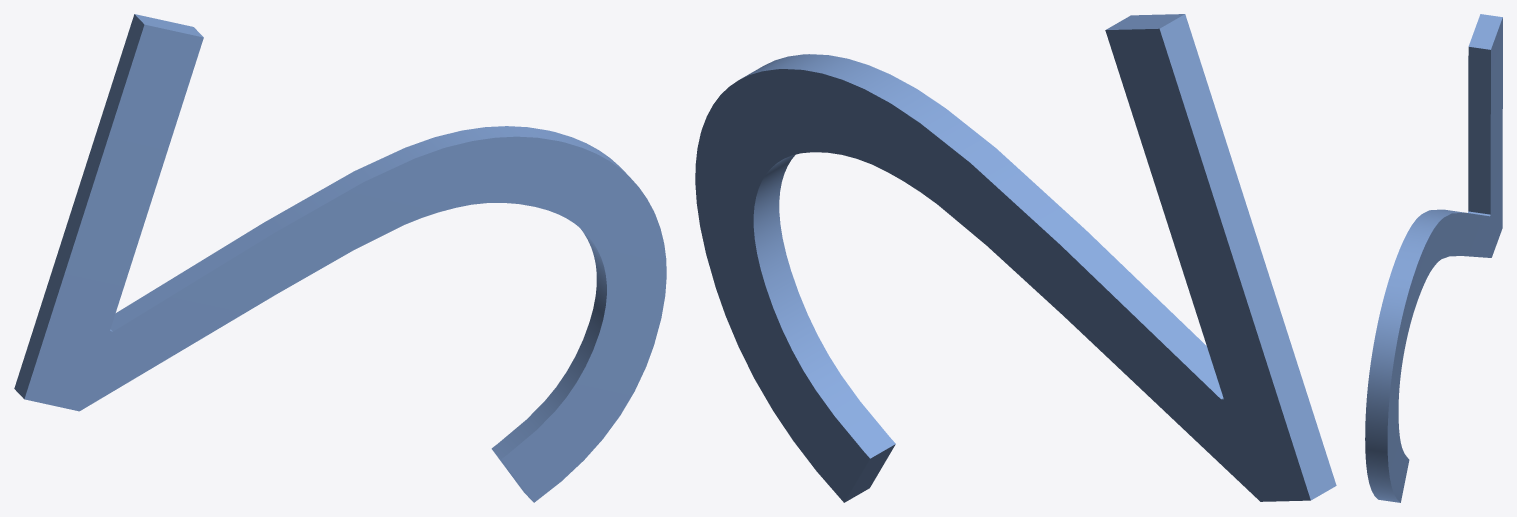
The model's file is New_Number_2.gltf.
3 views of the same model, side by side, from view 1: azimuth 30°, elevation 25°; view 2: azimuth 150°, elevation 25°; view 3: azimuth 270°, elevation 25° (orthographic). The views are drawn at different scales.
Visible parts, largest first — view 1: Part 470; view 2: Part 470; view 3: Part 470.
Boxes of the visible parts, x1,y1,x2,y2 form: Part 470: [14, 14, 666, 502]; Part 470: [695, 14, 1336, 502]; Part 470: [1365, 14, 1502, 502].
Size of the model in its own units: 0.00538 by 0.00457 by 0.00153.
